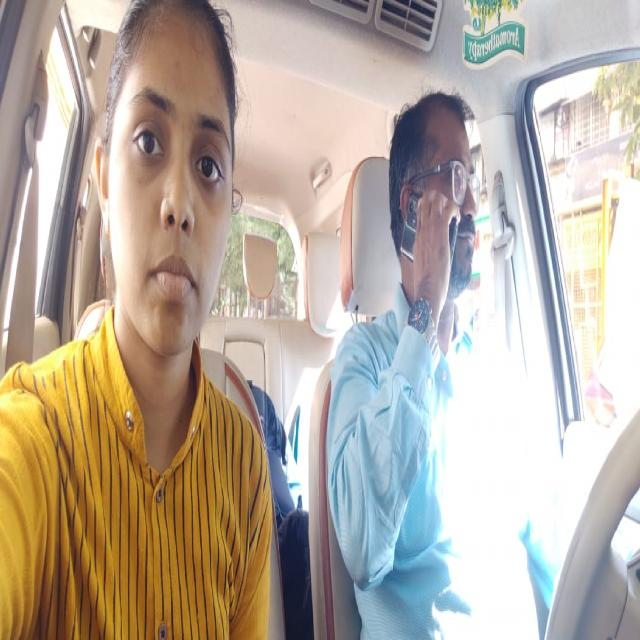mobile: (404, 191, 456, 282)
person: (99, 6, 238, 355), (385, 81, 483, 305)
